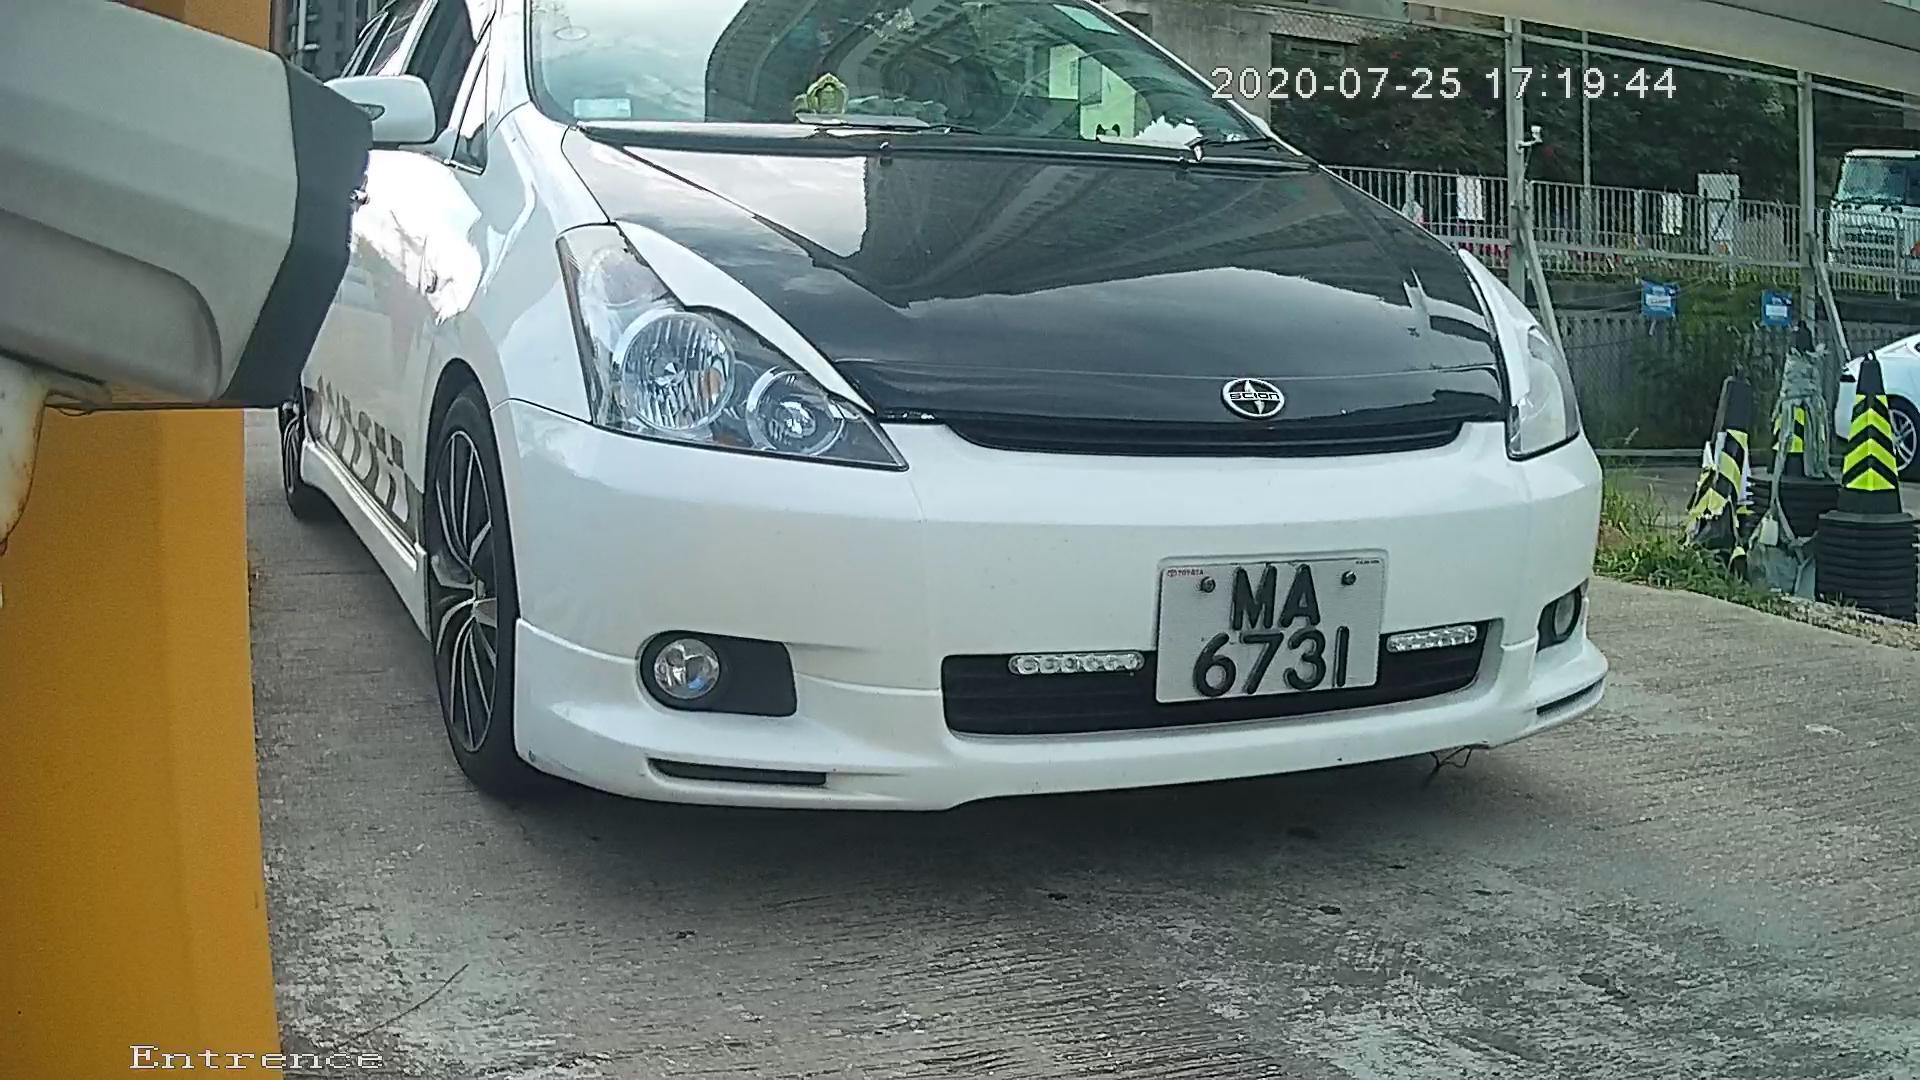privatecar: (318, 20, 1706, 858)
